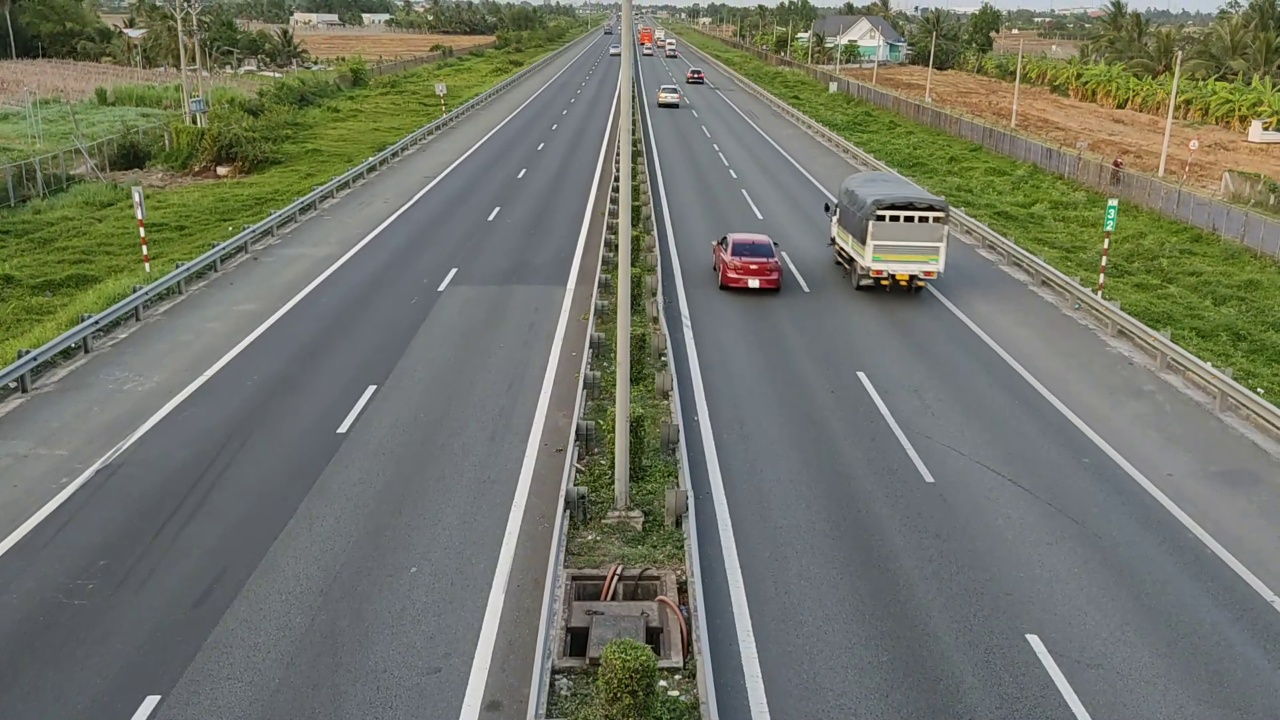car: (712, 232, 782, 291), (656, 85, 683, 107), (686, 68, 707, 83)
truck: (822, 161, 954, 300)
